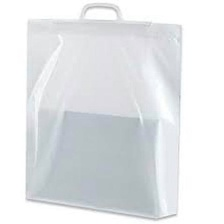plastic_bag: (15, 0, 189, 222)
